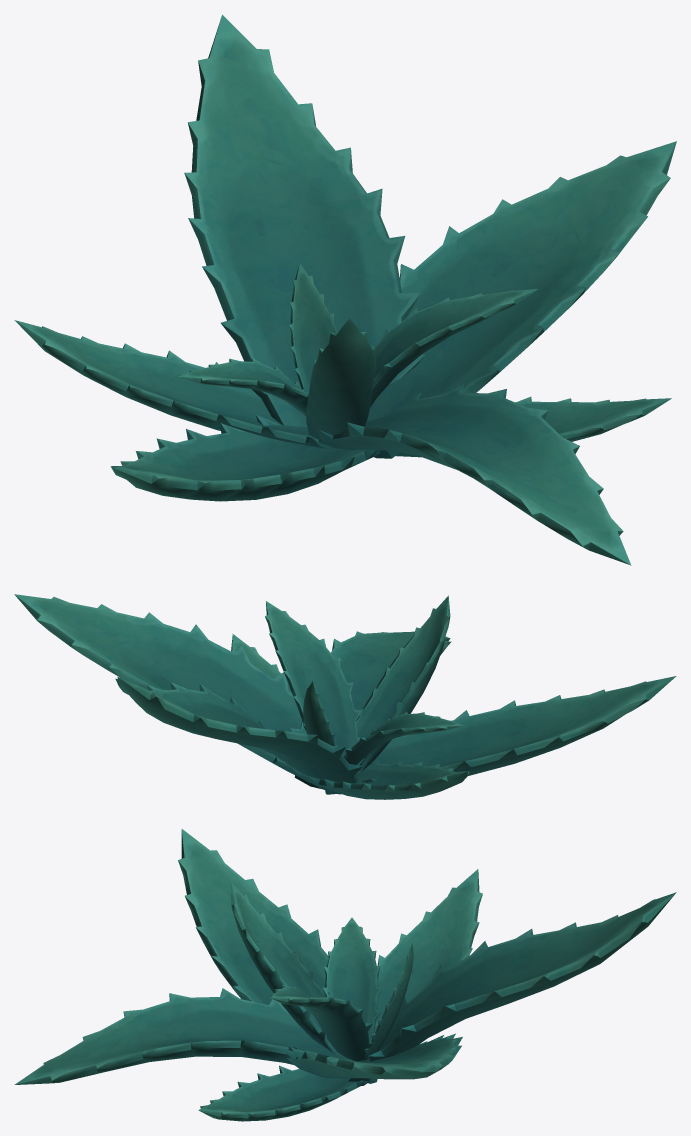
The model's file is DE_Cactus_04.fbx.
3 renders of one model, top to bottom at view 1: azimuth 30°, elevation 25°; view 2: azimuth 150°, elevation 25°; view 3: azimuth 270°, elevation 25°, orthographic. The views are drawn at different scales.
Parts seen in each view (by area): view 1: DE_Cactus_04; view 2: DE_Cactus_04; view 3: DE_Cactus_04.
Boxes of the visible parts, box(x1,y1,x2,y2) form: DE_Cactus_04: box(14, 14, 676, 565); DE_Cactus_04: box(14, 594, 676, 799); DE_Cactus_04: box(14, 829, 676, 1121).
Bounding box in the file's own units: 2.41 × 0.8888 × 2.43.
